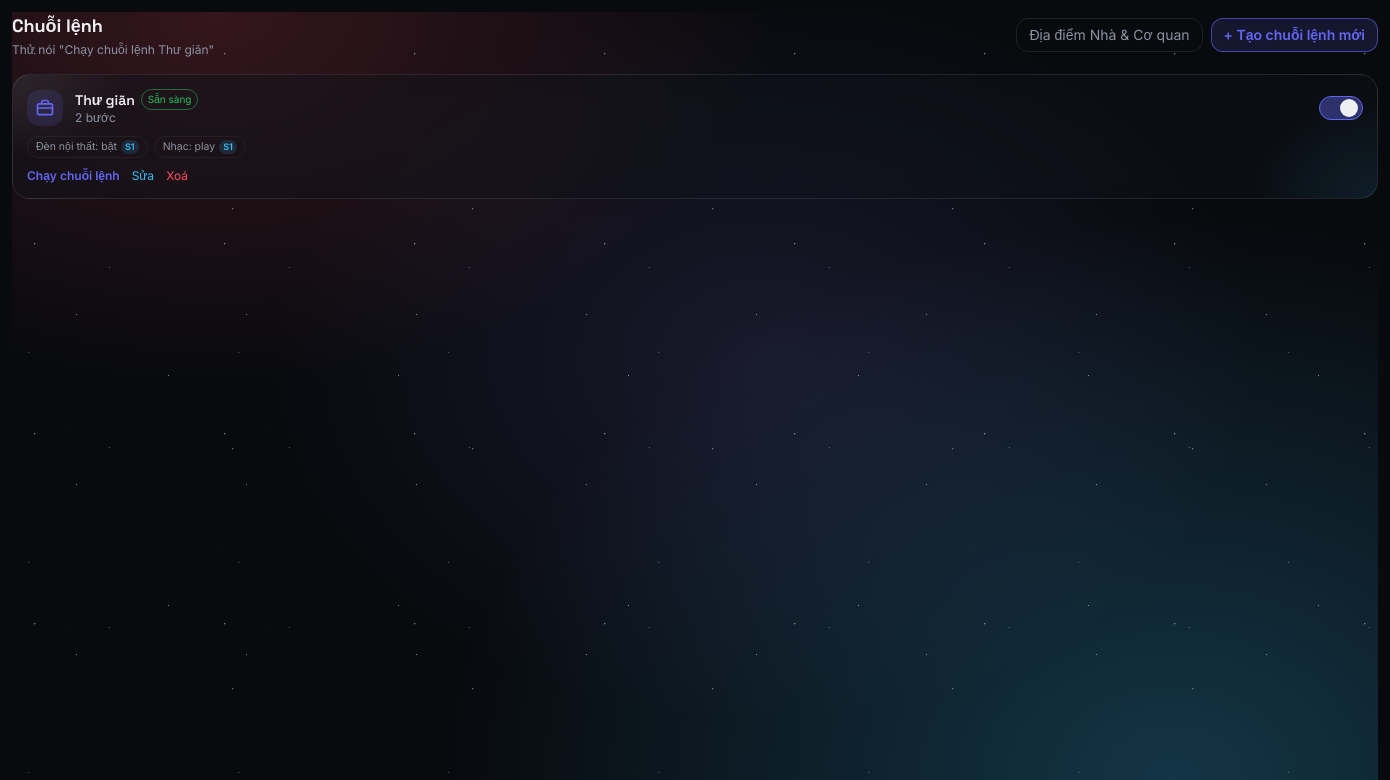
RoutinesView — chạy Routine, panel tiến độ (#292) › WS live khớp executionId đè lên snapshot REST — hiện đúng tổng kết routine.finished
The image size is (1390, 780).
What coordinates should you click on to do the following:
click the button "Chạy chuỗi lệnh"
I would click on:
 (73, 176)
Its box is x1=27 y1=168 x2=120 y2=184.
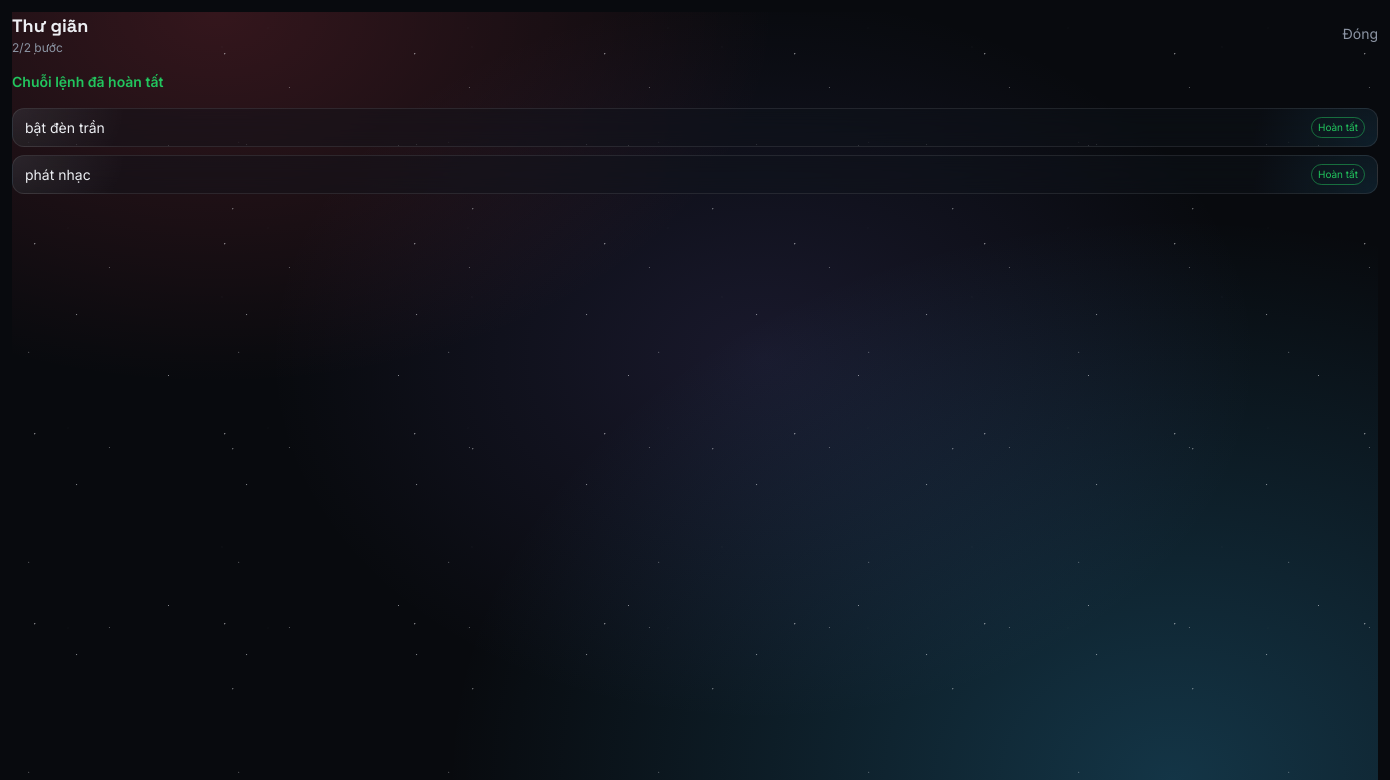
Result: the text "Chuỗi lệnh đã hoàn tất" is shown at x1=12 y1=73 x2=163 y2=90
Result: the text "2/2 bước" is shown at x1=12 y1=40 x2=63 y2=55
Result: the text "bật đèn trần" is shown at x1=25 y1=118 x2=105 y2=138
